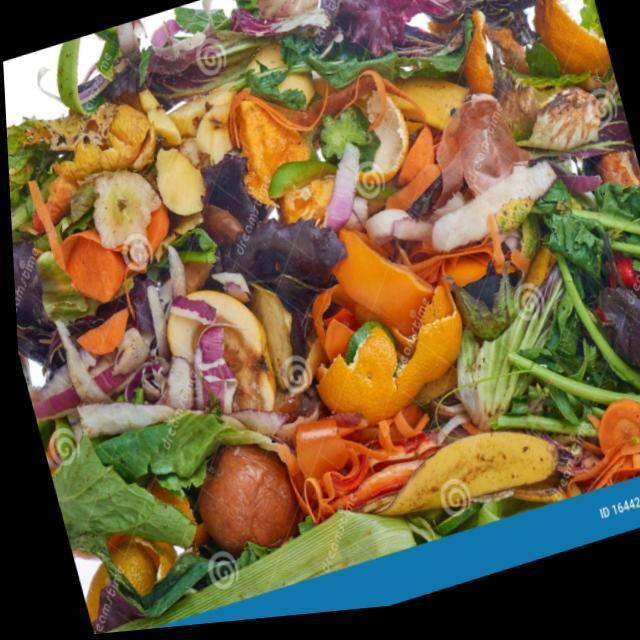Garbage: (5, 0, 640, 635)
